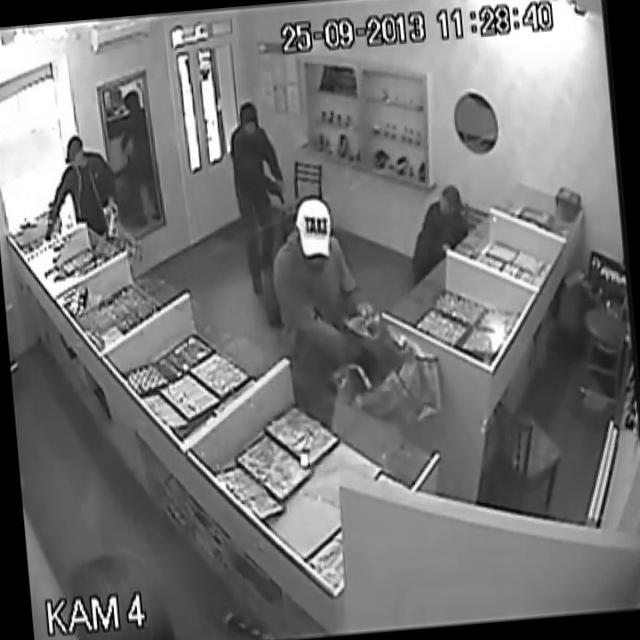gun: (262, 168, 292, 212)
person: (252, 185, 386, 374), (48, 127, 136, 268), (398, 178, 482, 287)
person with a gun: (225, 94, 301, 320)
